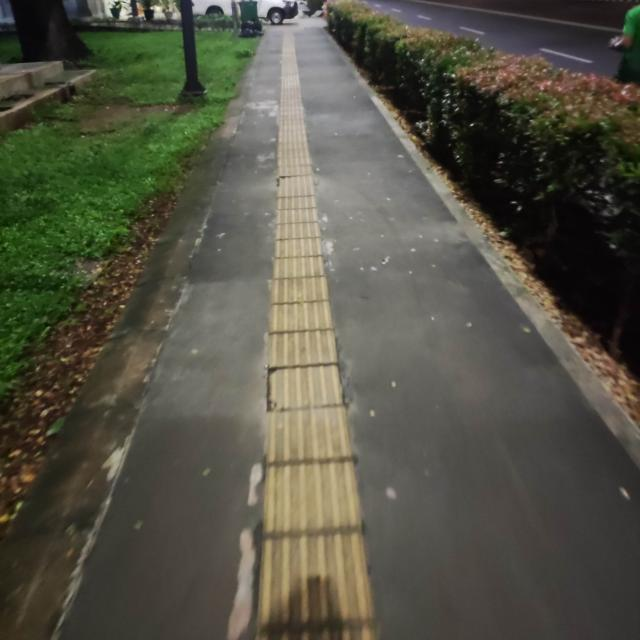lurus: (255, 35, 358, 640)
